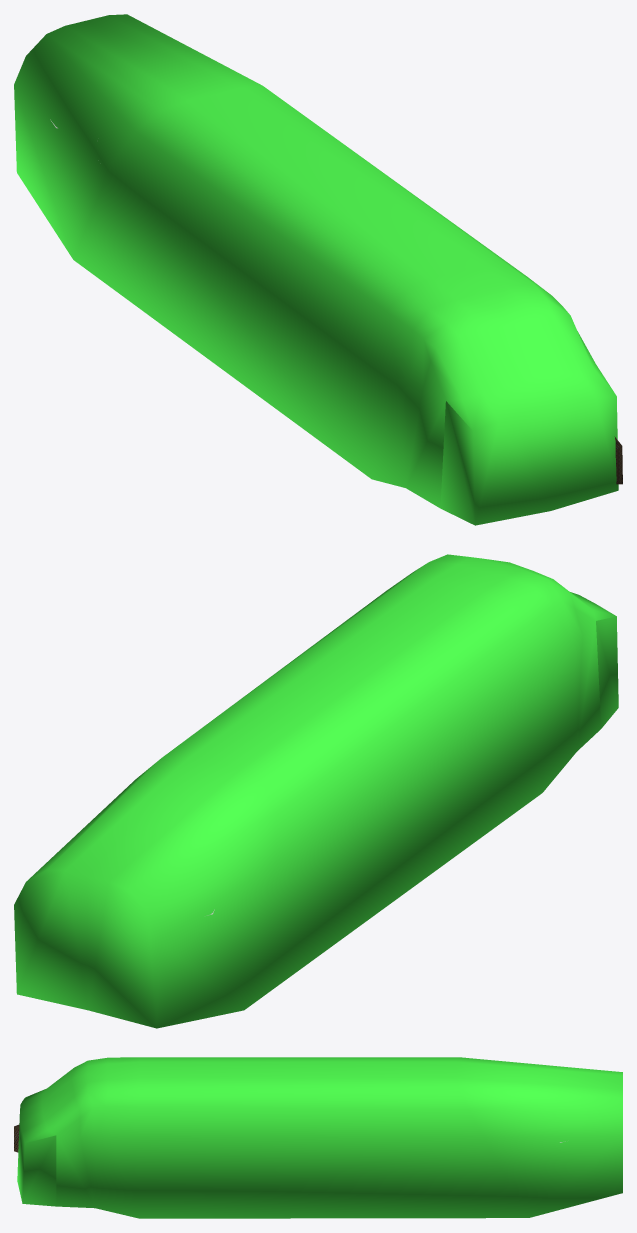
The model's file is KINGAIR_350I_interior_LOD3.gltf.
The picture shows the model from 3 angles, top to bottom: view 1: azimuth 30°, elevation 25°; view 2: azimuth 150°, elevation 25°; view 3: azimuth 270°, elevation 25°; orthographic projection. The views are drawn at different scales.
Parts seen in each view (by area): view 1: OCCLUDER; view 2: OCCLUDER; view 3: OCCLUDER.
Part boxes in pixels (x1=…): OCCLUDER: x1=14, y1=14, x2=618, y2=525; OCCLUDER: x1=14, y1=554, x2=618, y2=1028; OCCLUDER: x1=17, y1=1057, x2=622, y2=1218.
Bounding box in the file's own units: 1.6 × 1.66 × 7.55.
